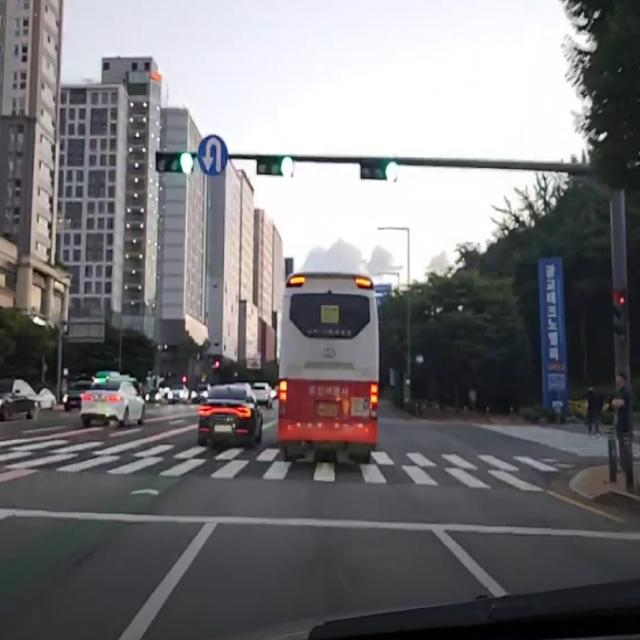Green Light: (178, 150, 195, 174), (383, 159, 399, 183), (280, 156, 294, 177)
